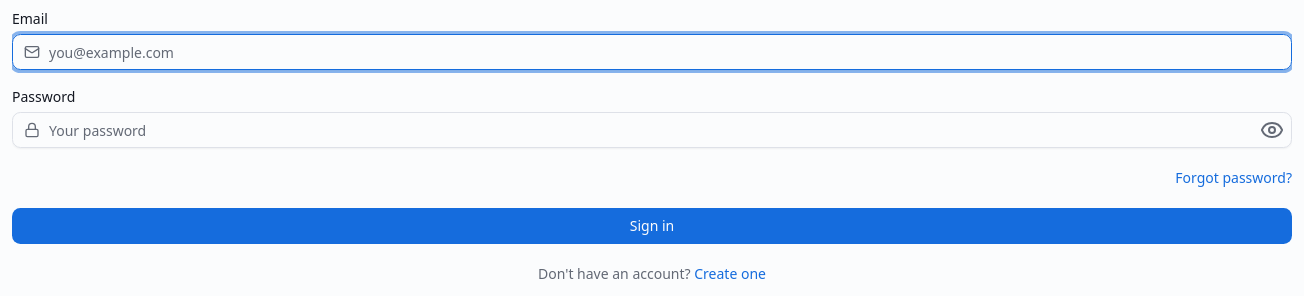
LoginForm › toggles password visibility without losing the typed value
Type "secret" into the password field labelled "Password" at (652, 130), box x1=12 y1=112 x2=1292 y2=148
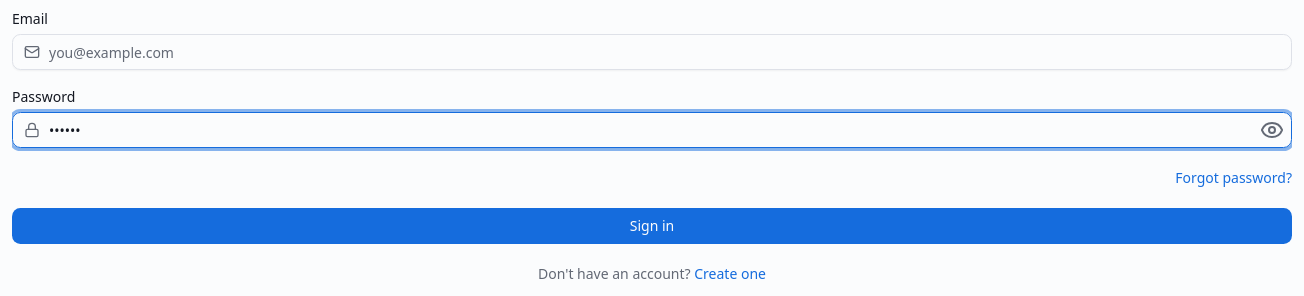
Click the button named "Show password" at (1272, 130), box x1=1258 y1=116 x2=1286 y2=144
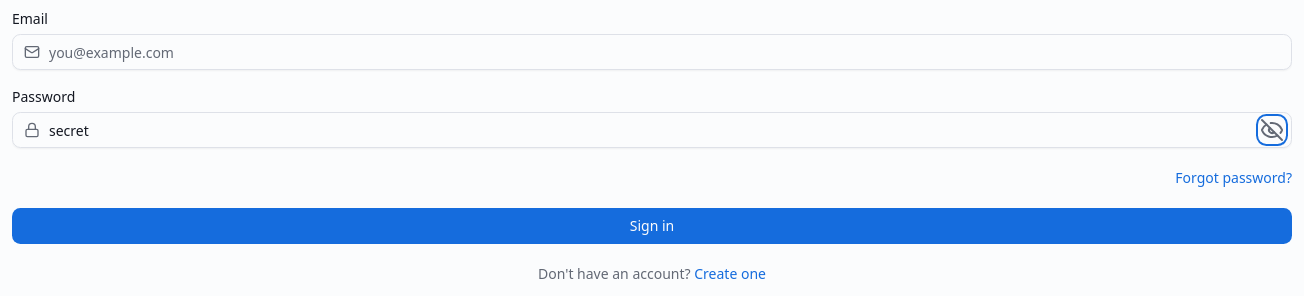
Result: the field labelled "Password" shows its text at x1=12 y1=112 x2=1292 y2=148
Click the button named "Hide password" at (1272, 130), box x1=1258 y1=116 x2=1286 y2=144
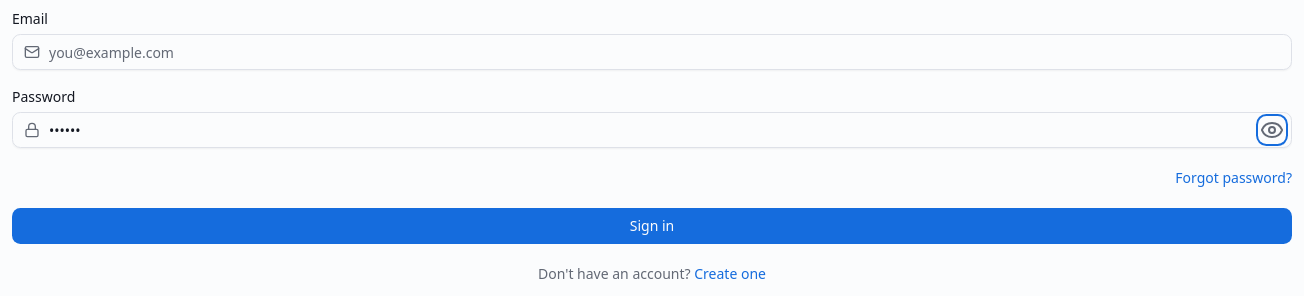
Result: the password field labelled "Password" hides its text at x1=12 y1=112 x2=1292 y2=148
